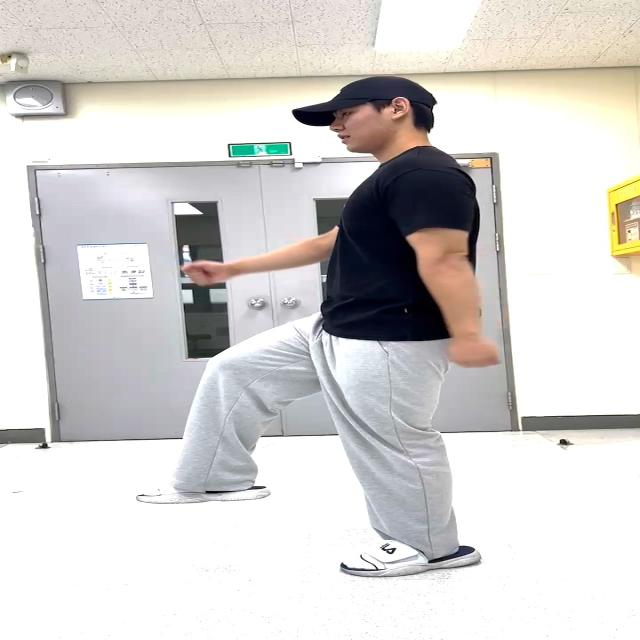leg: (158, 331, 314, 506)
